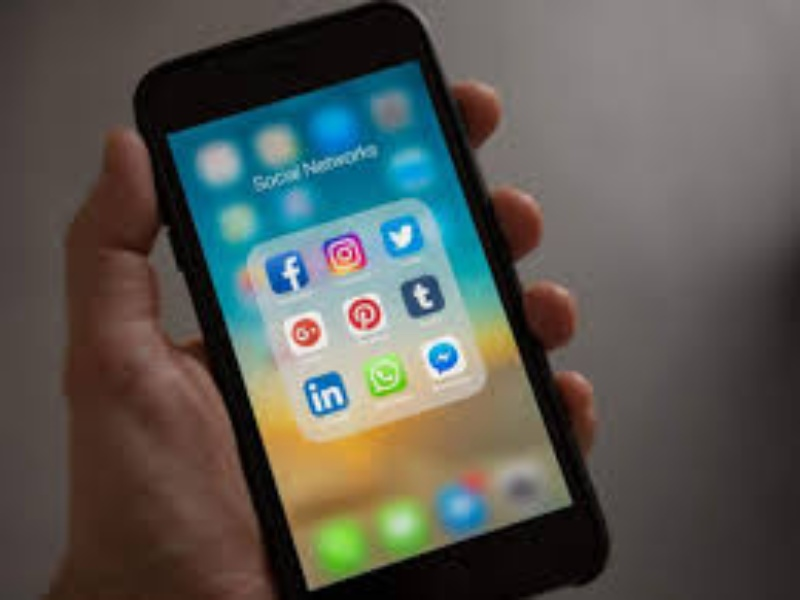mobile: (102, 6, 621, 600)
